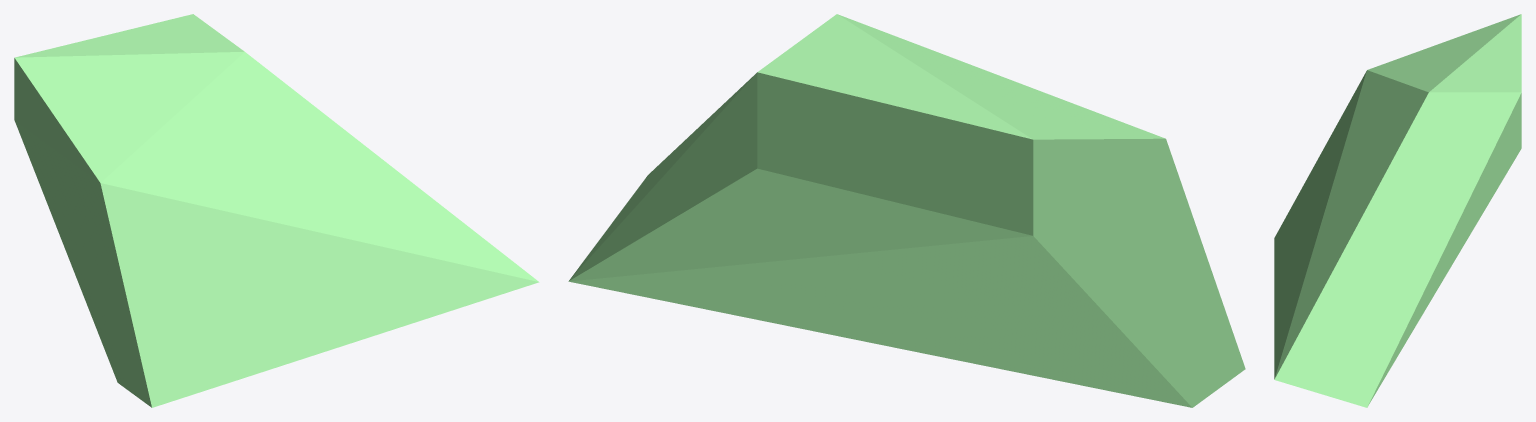
File: rambler_robot_base_coll_1.dae
3 renders of one model, left to right at view 1: azimuth 30°, elevation 25°; view 2: azimuth 150°, elevation 25°; view 3: azimuth 270°, elevation 25°, orthographic. The views are drawn at different scales.
Parts seen in each view (by area): view 1: Node_0x7fe0fc4d5380; view 2: Node_0x7fe0fc4d5380; view 3: Node_0x7fe0fc4d5380.
Boxes of the visible parts, x1,y1,x2,y2 form: Node_0x7fe0fc4d5380: [14, 14, 539, 407]; Node_0x7fe0fc4d5380: [568, 14, 1245, 407]; Node_0x7fe0fc4d5380: [1274, 14, 1521, 407].
Bounding box in the file's own units: 0.1779 × 0.1095 × 0.1095.
